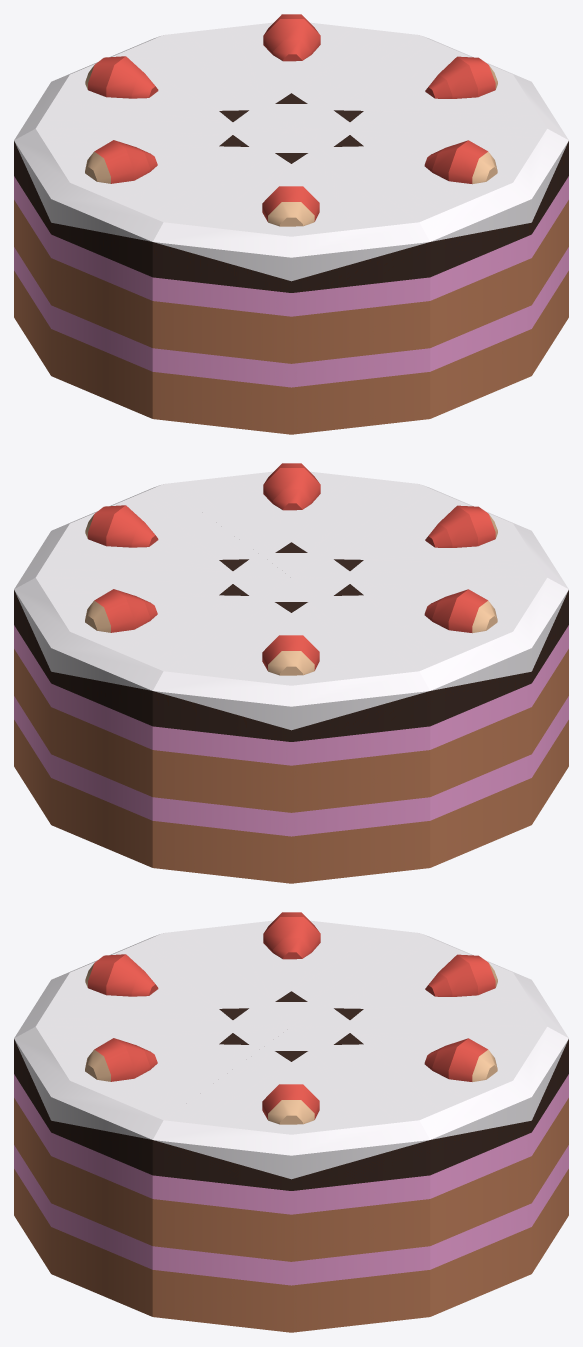
File: cake.glb
3 views of the same model, one above another, from view 1: azimuth 30°, elevation 25°; view 2: azimuth 150°, elevation 25°; view 3: azimuth 270°, elevation 25° (orthographic).
Visible parts, largest first — view 1: slice; view 2: slice; view 3: slice.
Boxes of the visible parts, bbox=[...] form: slice: bbox=[14, 14, 568, 434]; slice: bbox=[14, 463, 568, 883]; slice: bbox=[14, 912, 568, 1332].
Size of the model in its own units: 0.6392 by 0.2731 by 0.6392.
1 material, 1 textured.
